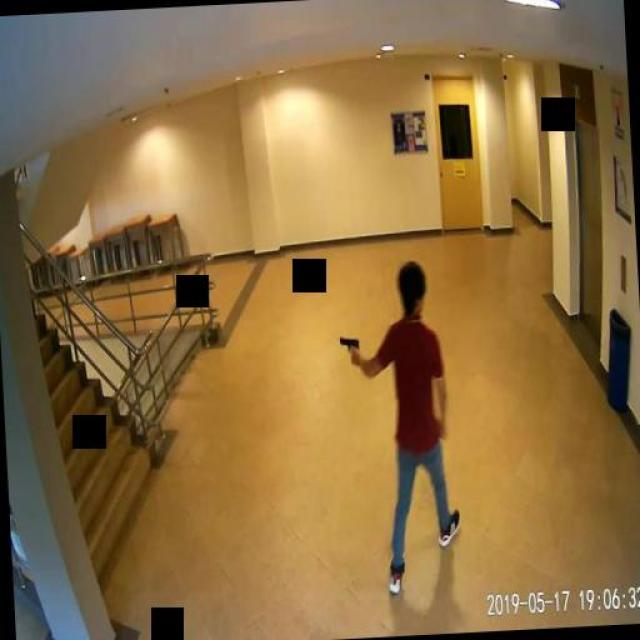gun: (338, 334, 358, 364)
